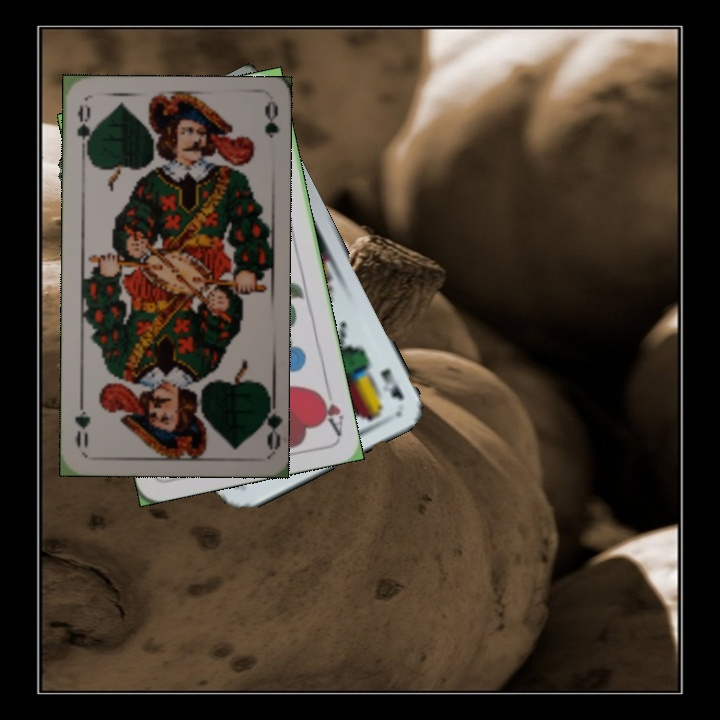EK: (375, 364, 406, 402)
GO: (253, 392, 280, 451), (72, 100, 96, 159)
HA: (313, 379, 347, 437)
